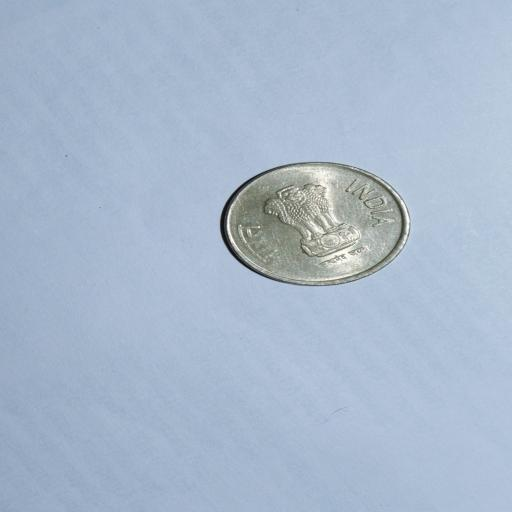rupee5: (214, 162, 416, 293)
